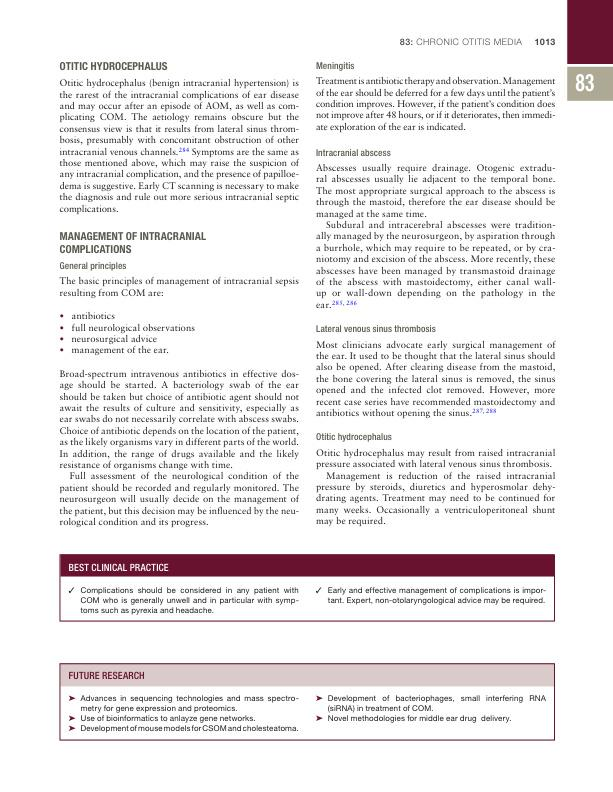caption: (68, 562, 170, 573), (68, 670, 146, 681)
header: (398, 37, 524, 47)
list: (67, 693, 300, 735), (314, 693, 548, 725), (67, 585, 300, 616), (59, 311, 197, 356), (314, 585, 547, 607)
section-heading: (58, 231, 208, 254), (58, 60, 168, 71)
sub-section-heading: (315, 323, 438, 334), (315, 431, 393, 443), (314, 148, 393, 158), (58, 261, 128, 271), (315, 61, 356, 72)
text: (58, 368, 300, 530), (314, 163, 557, 310), (58, 78, 300, 216), (315, 339, 557, 420), (315, 447, 557, 528), (314, 75, 557, 133), (58, 275, 300, 300)
